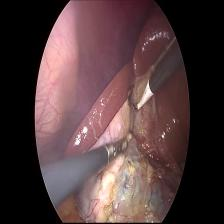Grasper: (105, 132, 133, 166)
Hook: (126, 76, 156, 118)
